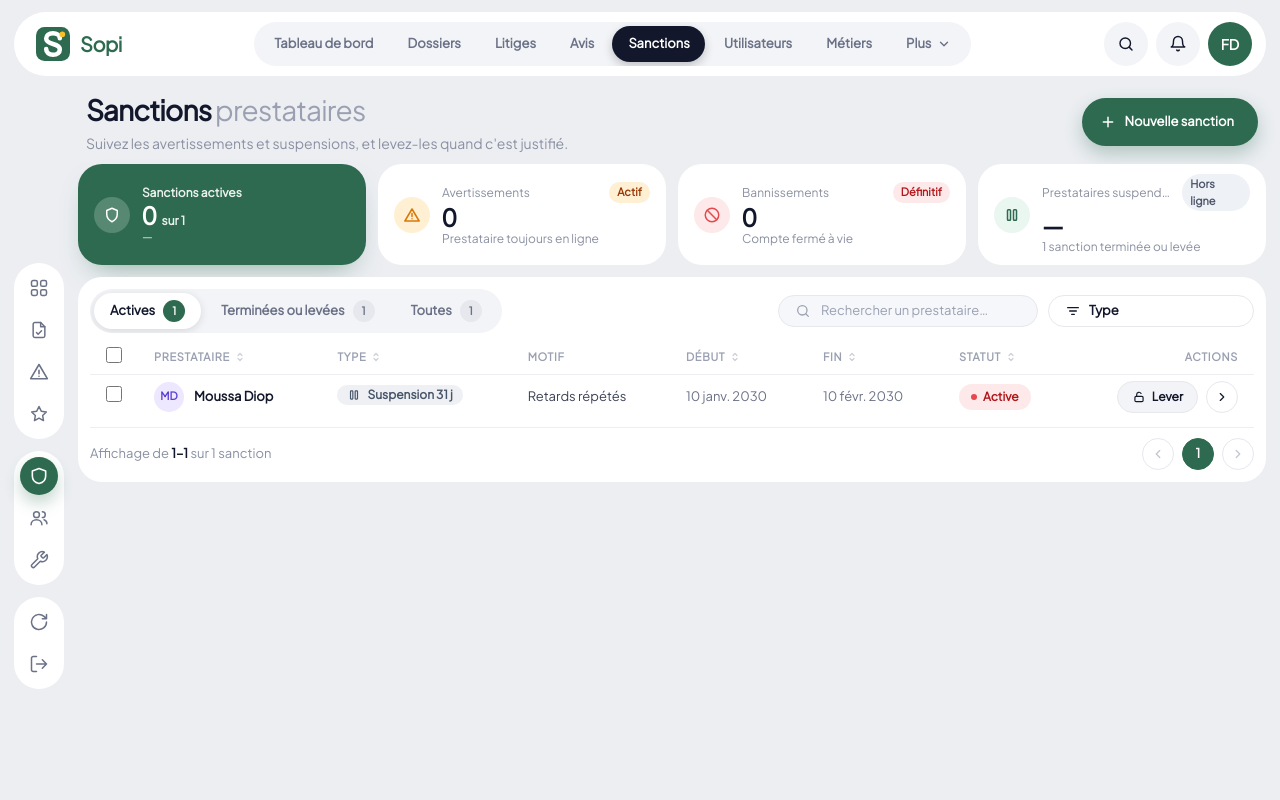
sanctions › affiche l’erreur 409 du serveur dans la modale
What coordinates should you click on to do the following:
click the button with aria-label "Lever la sanction de Moussa Diop"
I would click on:
 (1157, 396)
Its box is [1117,380,1198,412].
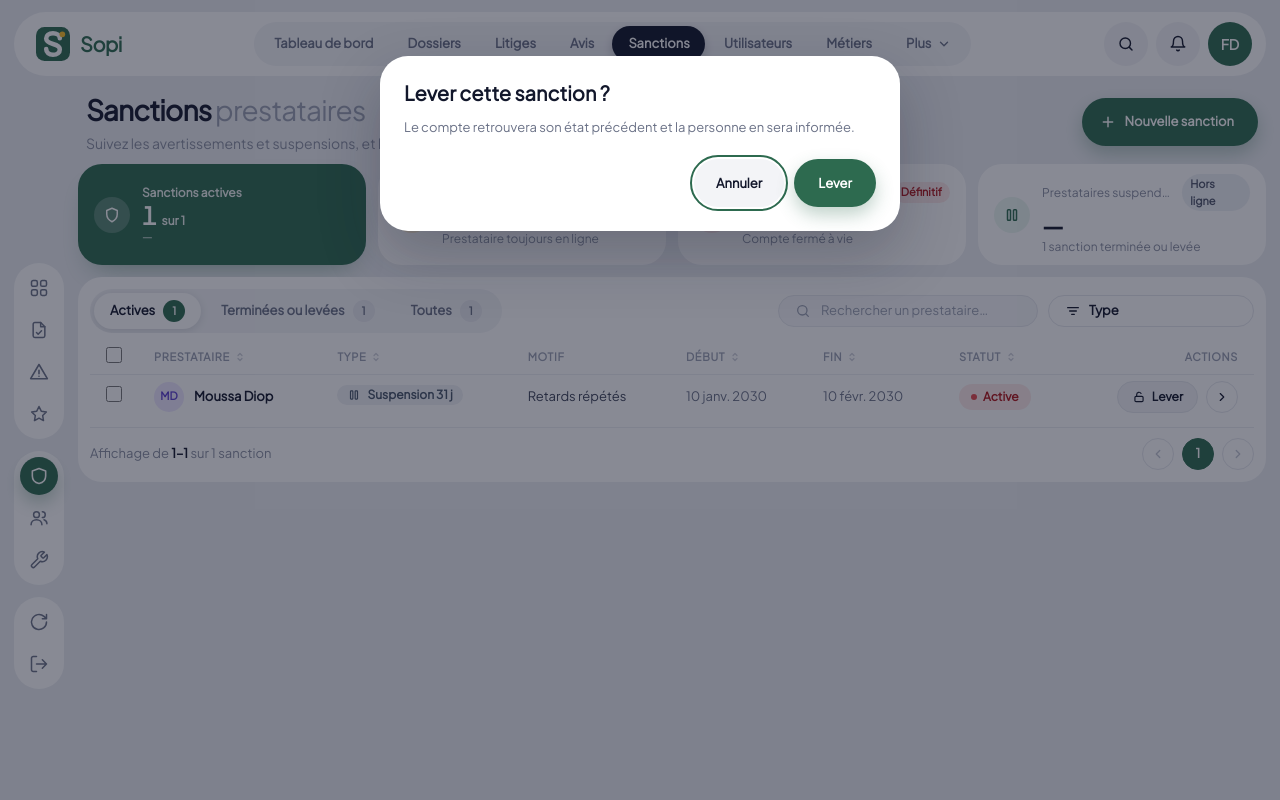
What coordinates should you click on to do the following:
click the button "Lever"
I would click on:
 (835, 183)
Its box is [794,159,876,207].
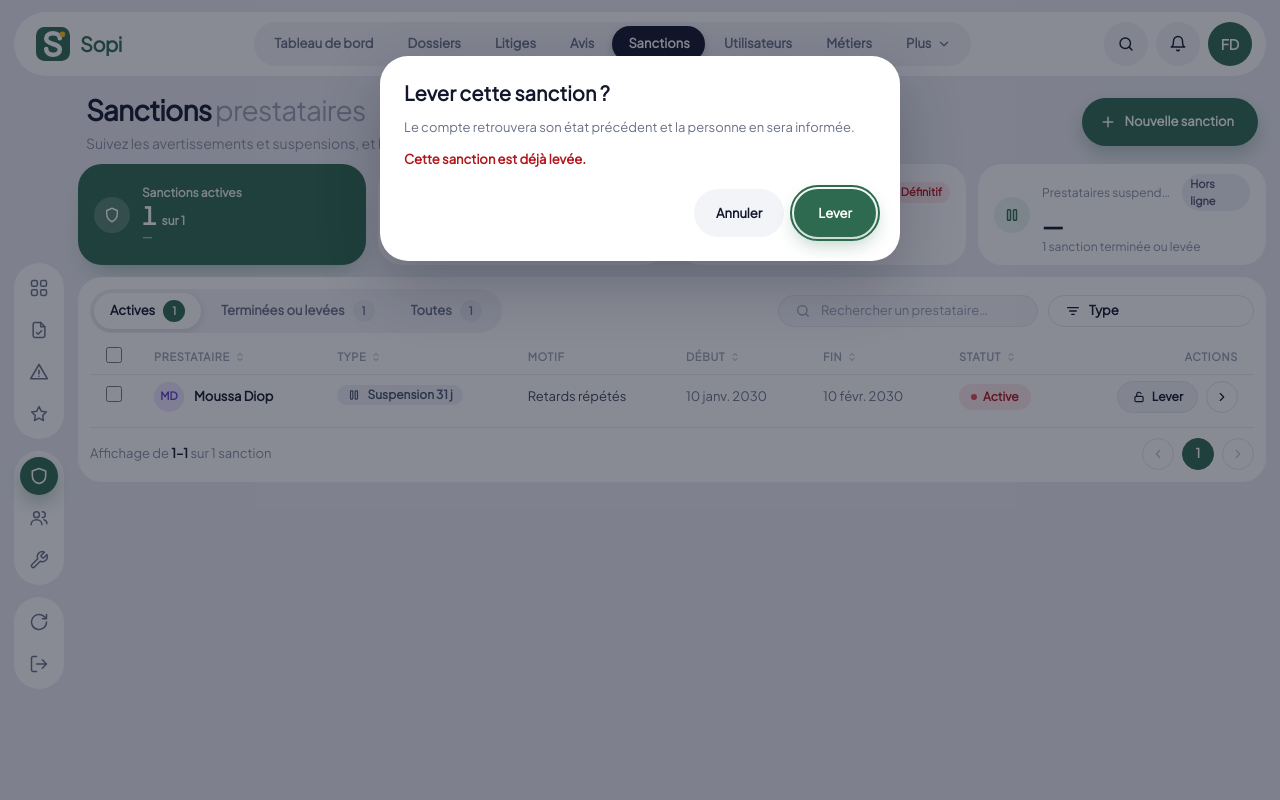
Check: the text "Cette sanction est déjà levée." is shown, box [404,151,586,167]
